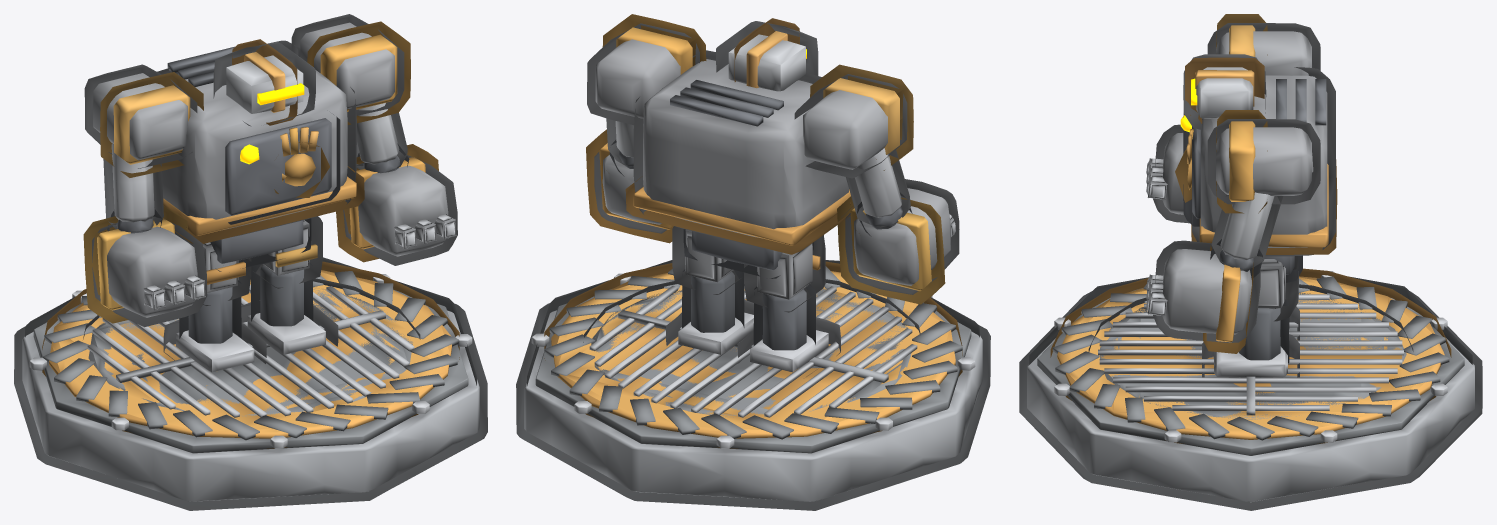
File: titan_mech.glb
3 renders of one model, left to right at view 1: azimuth 30°, elevation 25°; view 2: azimuth 150°, elevation 25°; view 3: azimuth 270°, elevation 25°, orthographic. The views are drawn at different scales.
Parts seen in each view (by area): view 1: M_TitanMech, M_Body, M_Arm, M_Body_Outline, M_TitanMech_Outline, M_Arm_Outline, M_Leg, M_Leg.001, M_Leg_Outline, M_Leg.001_Outline, M_Handprint; view 2: M_TitanMech, M_Body, M_Body_Outline, M_Arm, M_TitanMech_Outline, M_Arm_Outline, M_Leg.001, M_Leg, M_Leg.001_Outline, M_Leg_Outline; view 3: M_TitanMech, M_Body, M_Arm, M_TitanMech_Outline, M_Body_Outline, M_Leg, M_Arm_Outline, M_Leg_Outline.
Part boxes in pixels (<box>): M_TitanMech: <box>22,270,479,501</box>; M_Body: <box>93,22,397,284</box>; M_Arm: <box>97,103,456,317</box>; M_Body_Outline: <box>84,14,410,271</box>; M_TitanMech_Outline: <box>14,257,487,510</box>; M_Arm_Outline: <box>83,113,457,327</box>; M_Leg: <box>247,220,325,354</box>; M_Leg.001: <box>176,242,254,372</box>; M_Leg_Outline: <box>241,216,338,346</box>; M_Leg.001_Outline: <box>163,258,266,363</box>; M_Handprint: <box>280,127,318,186</box>; M_TitanMech: <box>524,266,982,501</box>; M_Body: <box>595,27,899,270</box>; M_Body_Outline: <box>587,14,913,278</box>; M_Arm: <box>599,121,959,290</box>; M_TitanMech_Outline: <box>516,260,990,510</box>; M_Arm_Outline: <box>586,118,959,304</box>; M_Leg.001: <box>750,243,828,372</box>; M_Leg: <box>678,229,753,354</box>; M_Leg.001_Outline: <box>737,235,840,376</box>; M_Leg_Outline: <box>666,226,753,345</box>; M_TitanMech: <box>1027,271,1474,502</box>; M_Body: <box>1180,25,1328,274</box>; M_Arm: <box>1146,133,1274,342</box>; M_TitanMech_Outline: <box>1019,268,1482,510</box>; M_Body_Outline: <box>1183,14,1337,282</box>; M_Leg: <box>1214,259,1287,377</box>; M_Arm_Outline: <box>1153,124,1283,353</box>; M_Leg_Outline: <box>1202,256,1299,377</box>.
Bounding box in the file's own units: 3.18 × 2.69 × 3.18.
